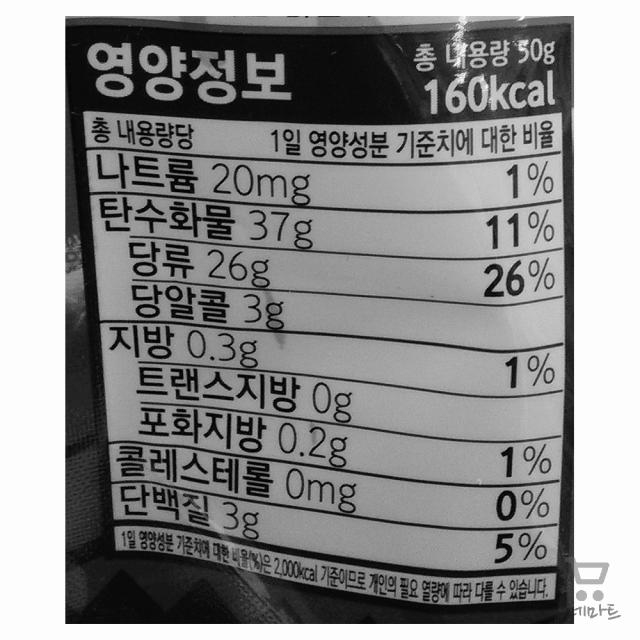Nutrition Label: (63, 13, 581, 616)
